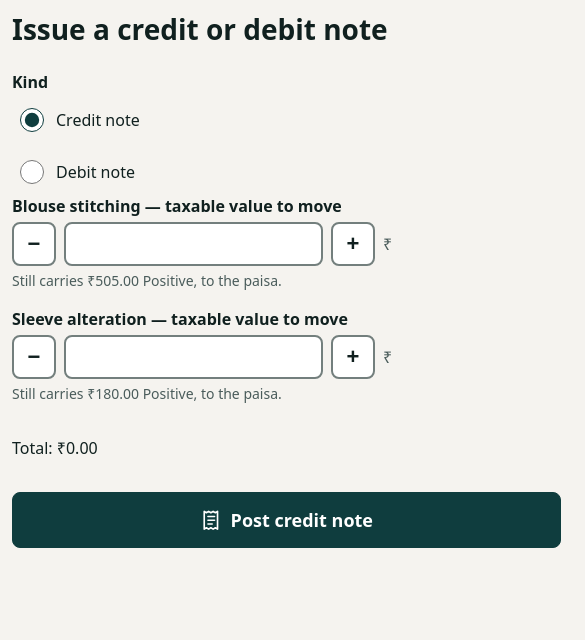
Test: issuing a credit or debit note (#354) › requires at least one line before opening the confirmation
Expected: the radio button labelled "Credit note" is shown, [20, 108, 44, 132]
Click the button "Post credit note".
click(287, 520)  # box [12, 492, 561, 548]
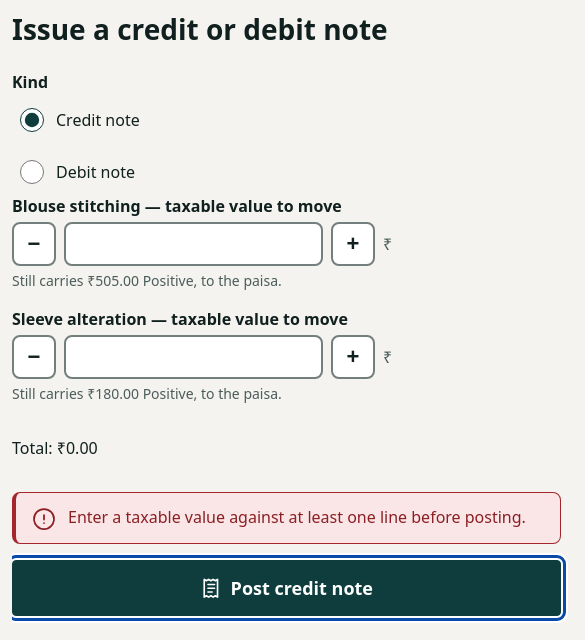
Result: the text "Enter a taxable value against at least one line before posting." is shown at [68, 505, 544, 529]
